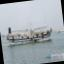fishing boat: (3, 18, 54, 47)
